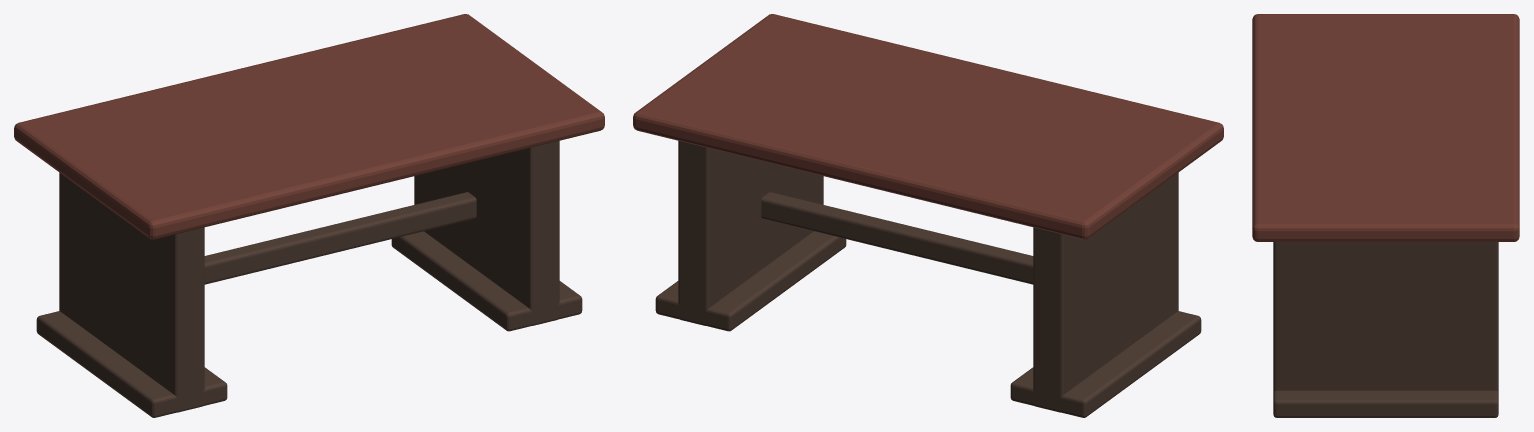
File: table_banquet.glb
The picture shows the model from 3 angles, left to right: view 1: azimuth 30°, elevation 25°; view 2: azimuth 150°, elevation 25°; view 3: azimuth 270°, elevation 25°; orthographic projection. The views are drawn at different scales.
Parts seen in each view (by area): view 1: GD_table_banquet__m0, GD_table_banquet__m1; view 2: GD_table_banquet__m0, GD_table_banquet__m1; view 3: GD_table_banquet__m0, GD_table_banquet__m1.
Part boxes in pixels (box(x1,y1,x2,y2)): GD_table_banquet__m0: box(14, 14, 604, 239); GD_table_banquet__m1: box(36, 141, 582, 417); GD_table_banquet__m0: box(633, 14, 1223, 239); GD_table_banquet__m1: box(655, 141, 1201, 417); GD_table_banquet__m0: box(1252, 14, 1519, 241); GD_table_banquet__m1: box(1273, 242, 1498, 417).
Size of the model in its own units: 1.8 by 0.78 by 0.95.
